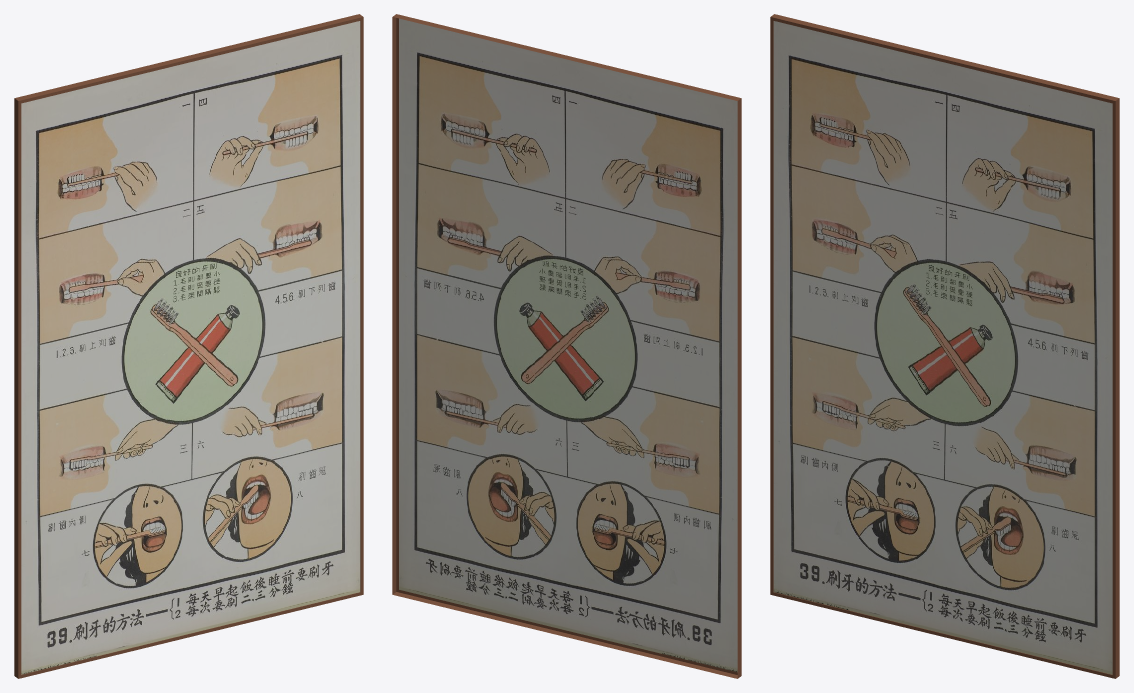
The model's file is poster_1.fbx.
The picture shows the model from 3 angles, left to right: view 1: azimuth 30°, elevation 25°; view 2: azimuth 150°, elevation 25°; view 3: azimuth 330°, elevation 25°; orthographic projection.
Visible parts, largest first — view 1: poster_1; view 2: poster_1; view 3: poster_1.
Part boxes in pixels (bbox=[...]): poster_1: bbox=[14, 14, 363, 678]; poster_1: bbox=[392, 14, 741, 678]; poster_1: bbox=[770, 14, 1119, 678].
Bounding box in the file's own units: 0.5 × 0.8 × 0.01.
